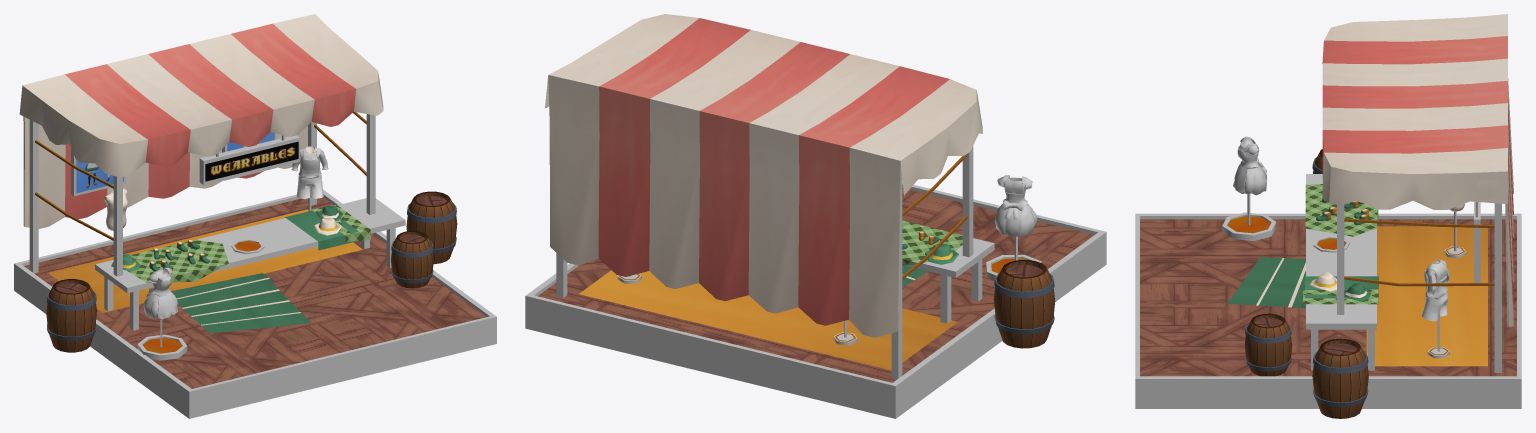
The model's file is Booth_Wearables_Art.fbx.
3 renders of one model, left to right at view 1: azimuth 30°, elevation 25°; view 2: azimuth 150°, elevation 25°; view 3: azimuth 270°, elevation 25°, orthographic. The views are drawn at different scales.
Visible parts, largest first — view 1: Oktoberfest_Booth_Wearables_Platform01__1__LOD0; view 2: Oktoberfest_Booth_Wearables_Platform01__1__LOD0; view 3: Oktoberfest_Booth_Wearables_Platform01__1__LOD0.
Part boxes in pixels (box(x1,y1,x2,y2)): Oktoberfest_Booth_Wearables_Platform01__1__LOD0: box(14, 14, 496, 418); Oktoberfest_Booth_Wearables_Platform01__1__LOD0: box(525, 14, 1106, 418); Oktoberfest_Booth_Wearables_Platform01__1__LOD0: box(1135, 14, 1521, 418).
Size of what is drawn, in the model's own units: 868 by 430 by 651.
